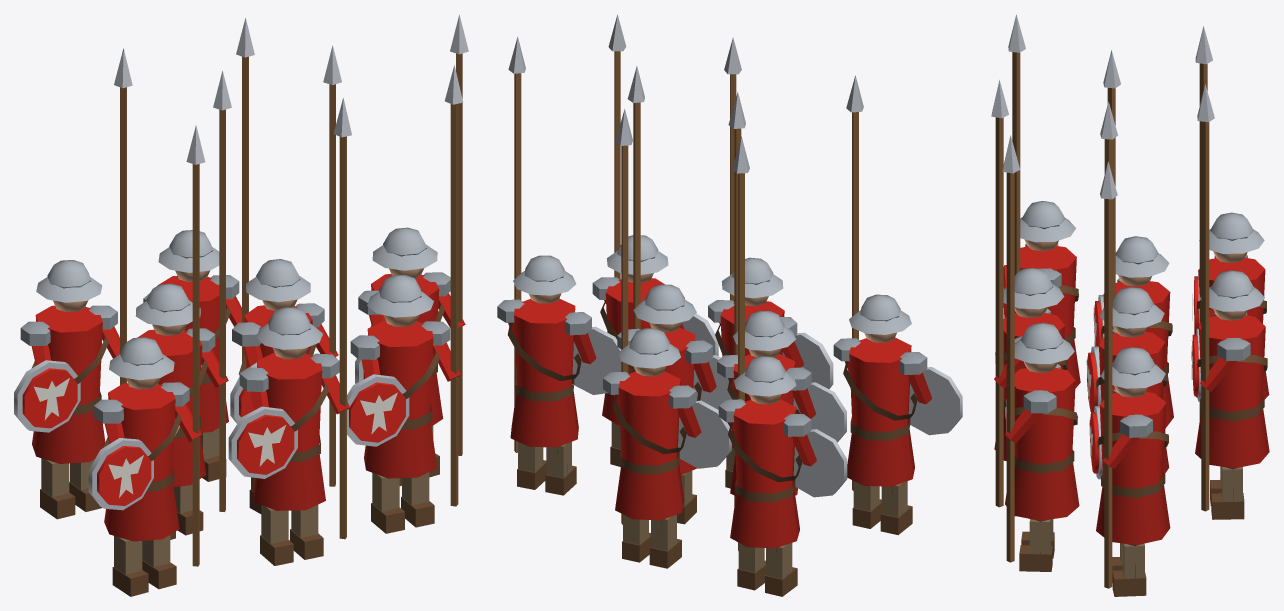
The model's file is squad_dl2_red.glb.
3 renders of one model, left to right at view 1: azimuth 30°, elevation 25°; view 2: azimuth 150°, elevation 25°; view 3: azimuth 270°, elevation 25°, orthographic. The views are drawn at different scales.
Parts seen in each view (by area): view 1: squad_dl2_red; view 2: squad_dl2_red; view 3: squad_dl2_red.
Boxes of the visible parts, x1=… form: squad_dl2_red: x1=14, y1=14, x2=468, y2=596; squad_dl2_red: x1=497, y1=14, x2=962, y2=596; squad_dl2_red: x1=991, y1=14, x2=1269, y2=596.
Bounding box in the file's own units: 0.7046 × 0.722 × 0.4103.
Materials: 1 (1 with a texture image).
